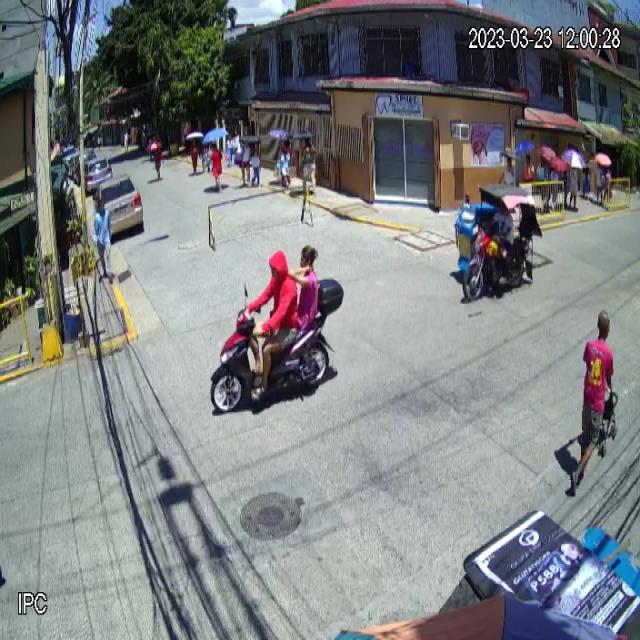Motorcycle: (210, 278, 344, 413)
Tricycle: (454, 184, 542, 300)
